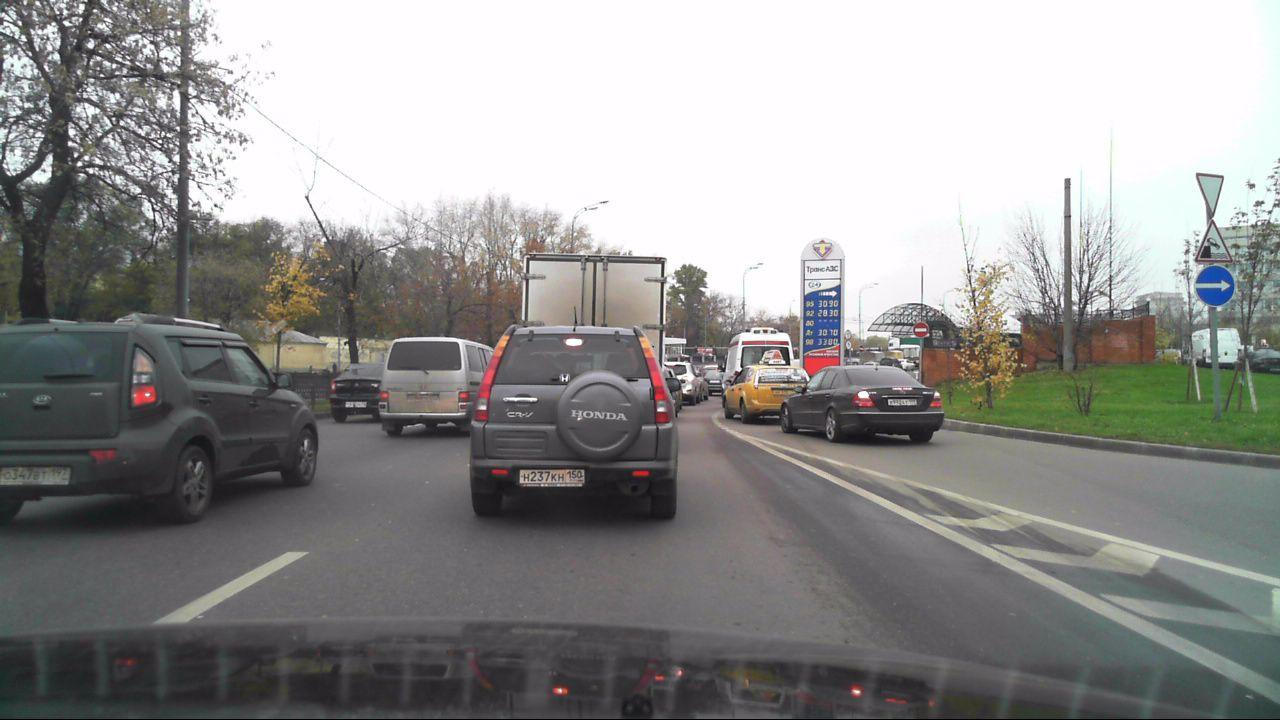1_10: (1193, 222, 1234, 263)
2_4: (1195, 171, 1228, 216)
3_1: (911, 322, 931, 337)
4_2_1: (1190, 265, 1238, 307)
